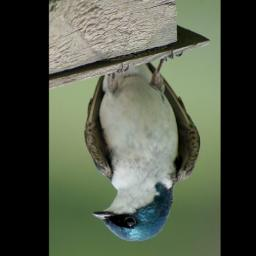Swallow: (83, 48, 200, 243)
